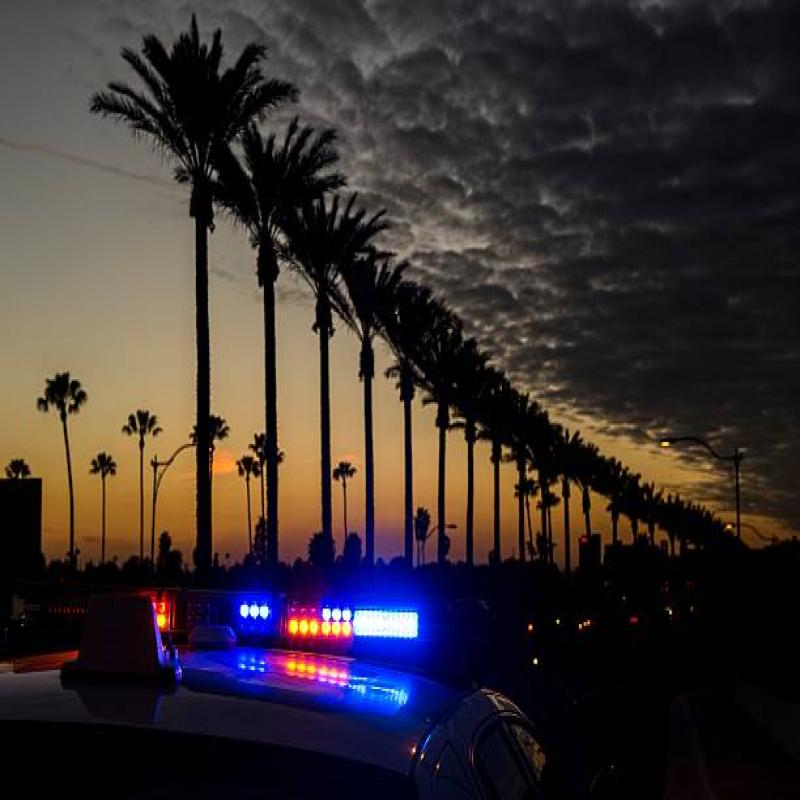AmbulanceSiren: (204, 575, 440, 656)
